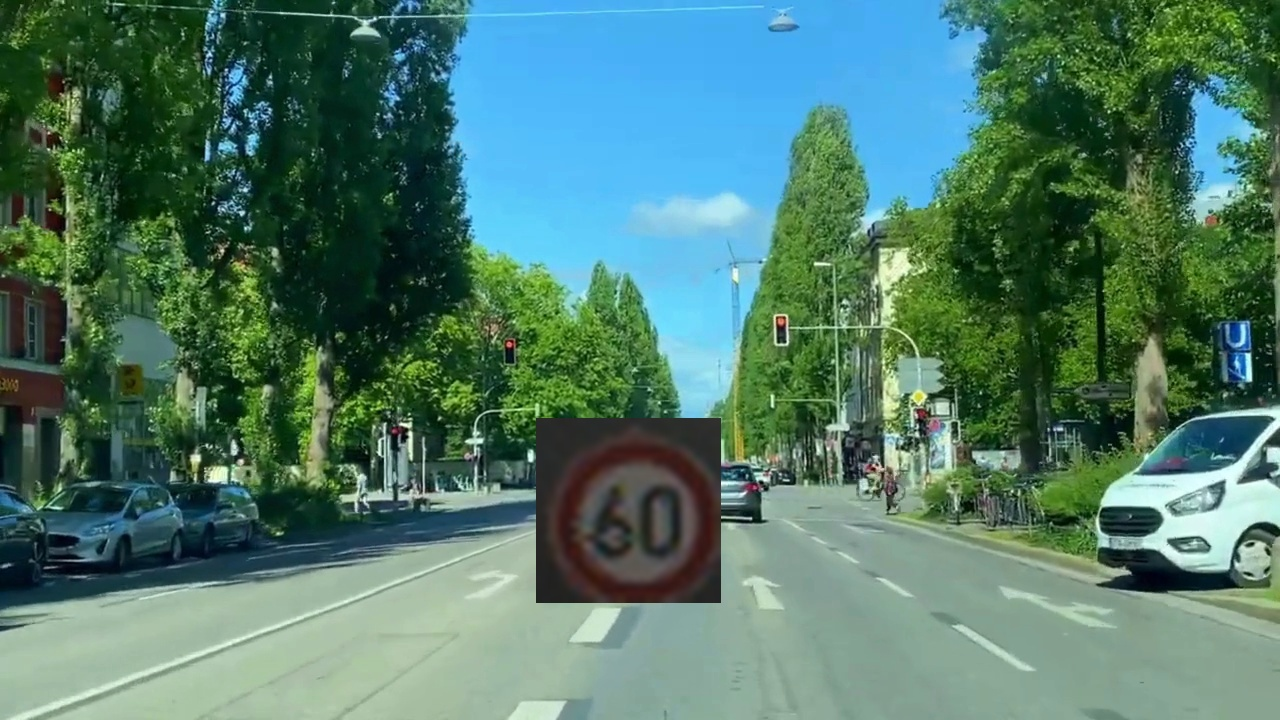Speed 60: (536, 418, 721, 603)
